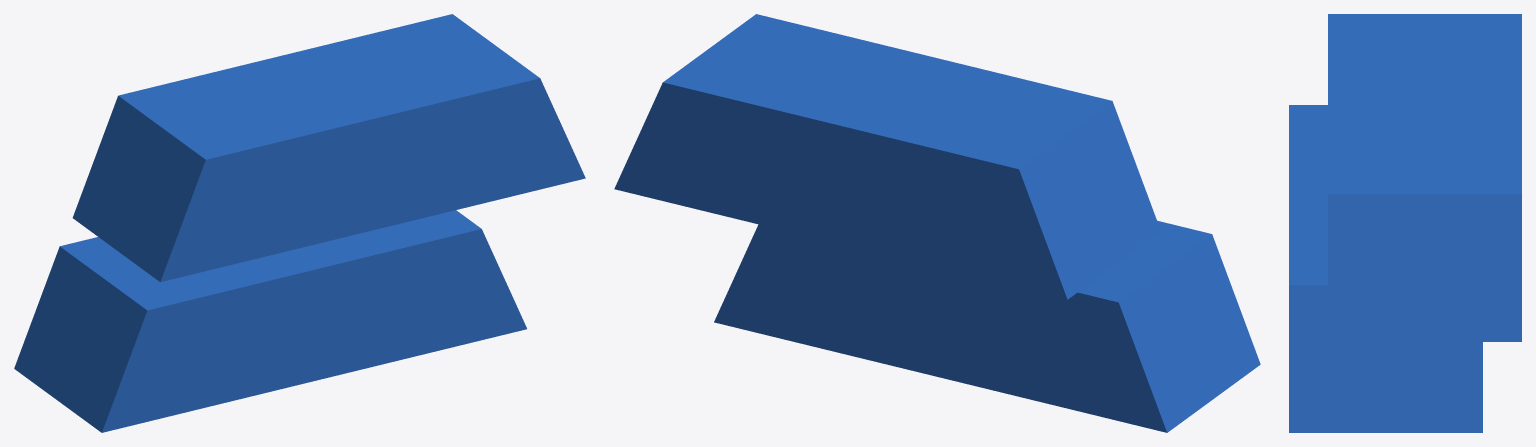
Rendered from cerulite_bar.glb.
The picture shows the model from 3 angles, left to right: view 1: azimuth 30°, elevation 25°; view 2: azimuth 150°, elevation 25°; view 3: azimuth 270°, elevation 25°; orthographic projection. The views are drawn at different scales.
Visible parts, largest first — view 1: cerulite_bar_v0; view 2: cerulite_bar_v0; view 3: cerulite_bar_v0.
Boxes of the visible parts, <box> form: cerulite_bar_v0: <box>14,14,585,432</box>; cerulite_bar_v0: <box>614,14,1260,432</box>; cerulite_bar_v0: <box>1289,14,1521,432</box>.
Bounding box in the file's own units: 0.33 × 0.145 × 0.12.
